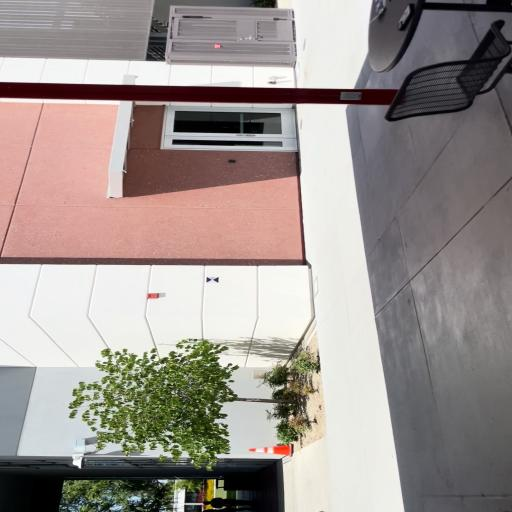target6: (206, 276, 219, 283)
